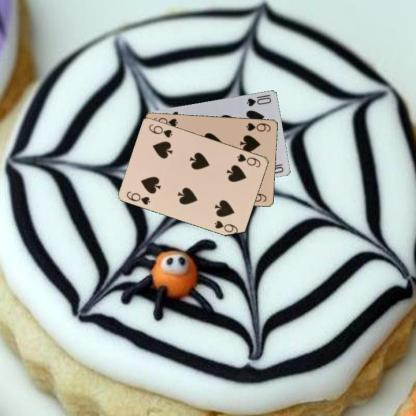10s: (244, 92, 273, 107)
6s: (124, 188, 152, 206), (235, 151, 262, 169), (244, 120, 272, 133)
